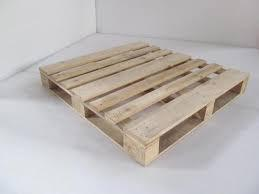wood: (33, 41, 250, 168)
